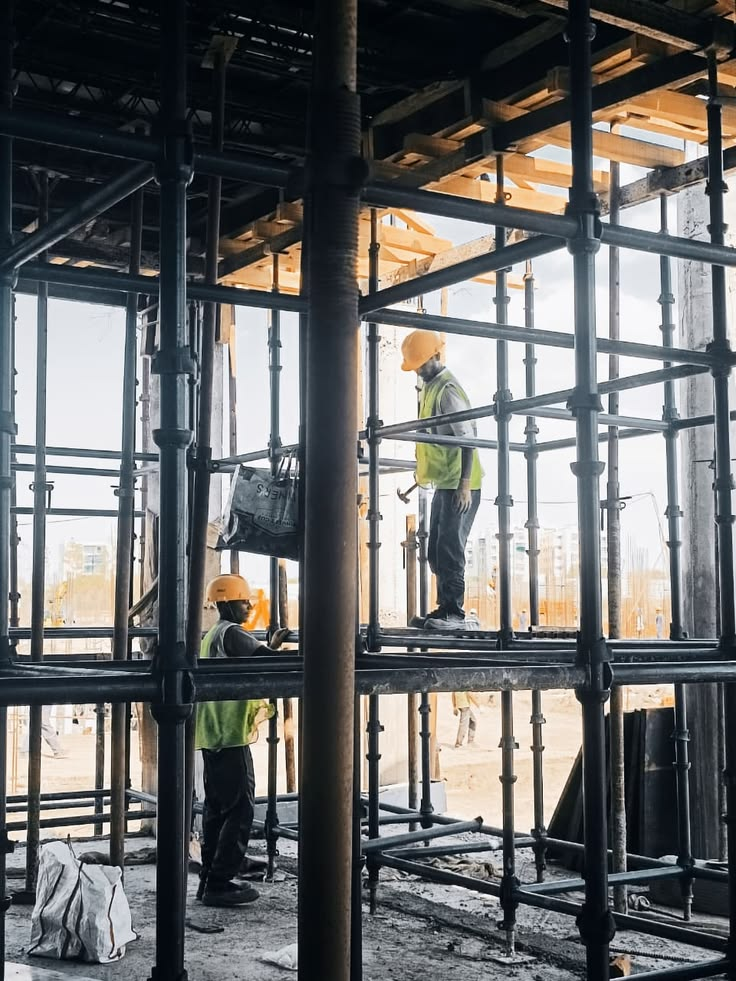hardhat: (188, 573, 268, 616), (396, 327, 460, 375)
person: (379, 304, 541, 658), (181, 552, 328, 922)
safety_vest: (193, 611, 286, 752), (413, 385, 505, 489)
